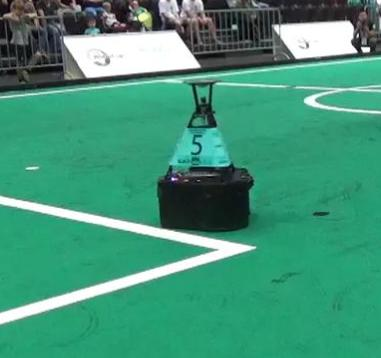robot: (151, 75, 254, 234)
